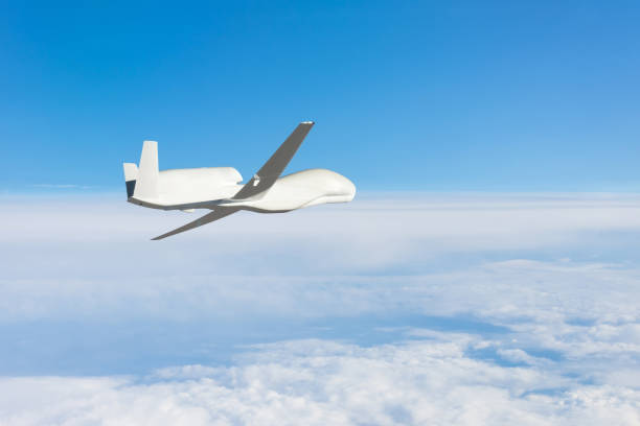military drone: (121, 120, 356, 240)
